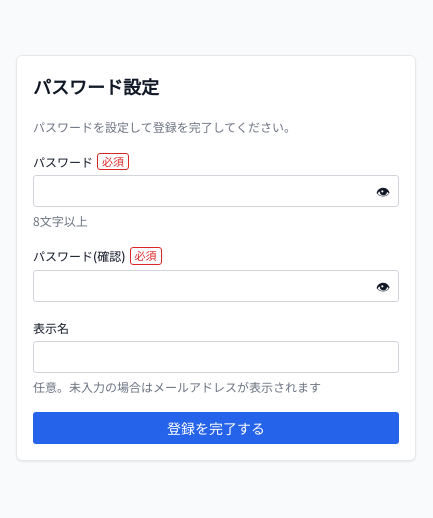
it: CompletePage › 無効トークンは理由統一メッセージを表示
Type "long-enough-password" into the password field named "パスワード必須" at (216, 191), box [33, 175, 399, 207]
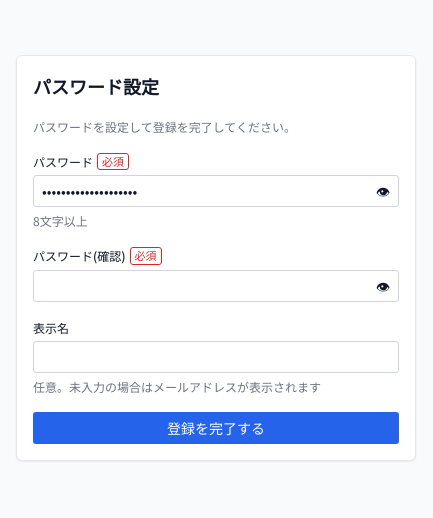
Type "long-enough-password" into the password field named "パスワード(確認)必須" at (216, 286), box [33, 270, 399, 302]
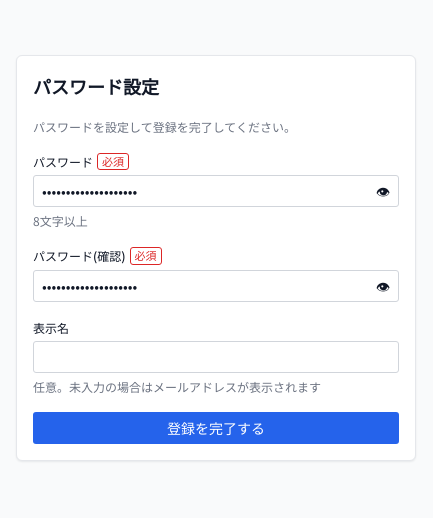
Click the button "登録を完了する" at (216, 428), box [33, 412, 399, 444]
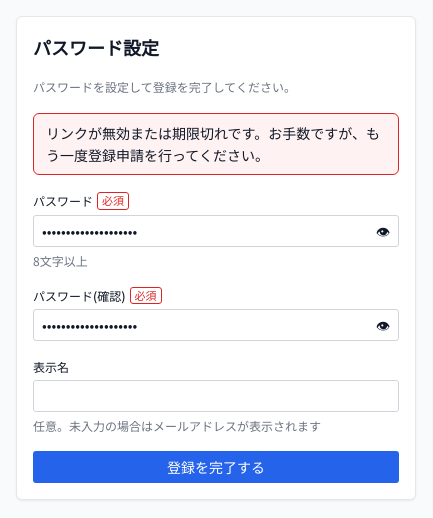
expect the text "リンクが無効または期限切れです。お手数ですが、もう一度登録申請を行ってください。" is shown: met, box [33, 113, 399, 175]
